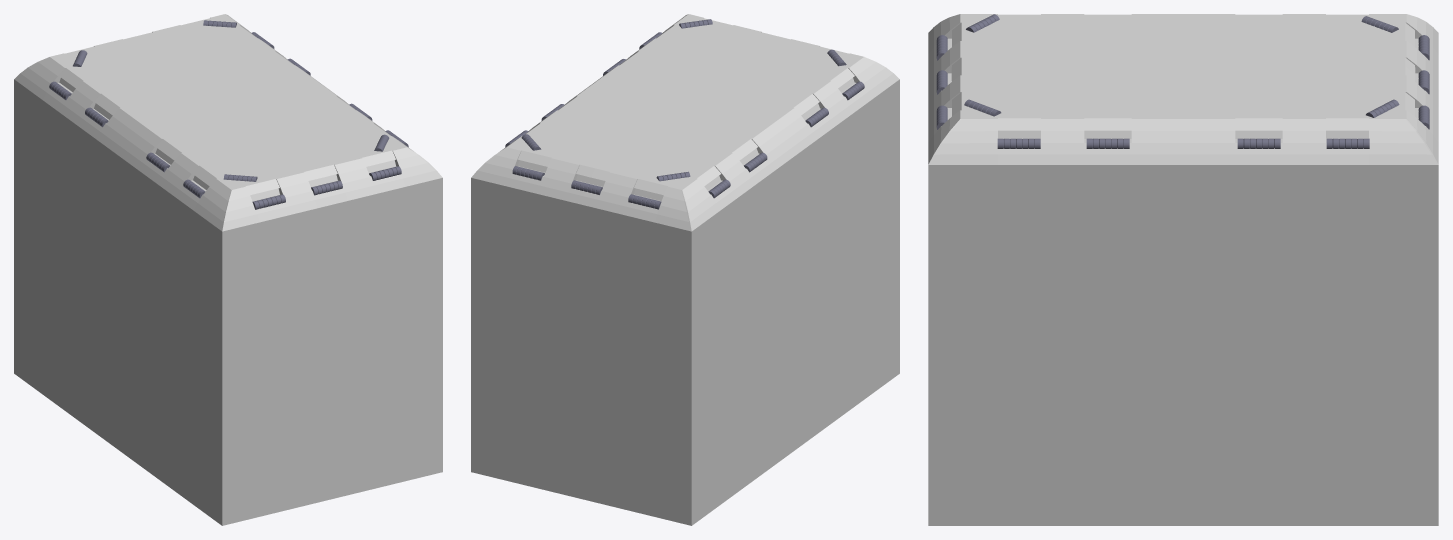
The model's file is Ring.fbx.
3 renders of one model, left to right at view 1: azimuth 30°, elevation 25°; view 2: azimuth 150°, elevation 25°; view 3: azimuth 270°, elevation 25°, orthographic. The views are drawn at different scales.
Parts seen in each view (by area): view 1: Cylinder.003; view 2: Cylinder.003; view 3: Cylinder.003.
Part boxes in pixels (box(x1,y1,x2,y2)): Cylinder.003: box(14, 14, 442, 525); Cylinder.003: box(471, 14, 899, 525); Cylinder.003: box(928, 14, 1438, 525).
Size of the model in its own units: 1421 by 1993 by 2322.
